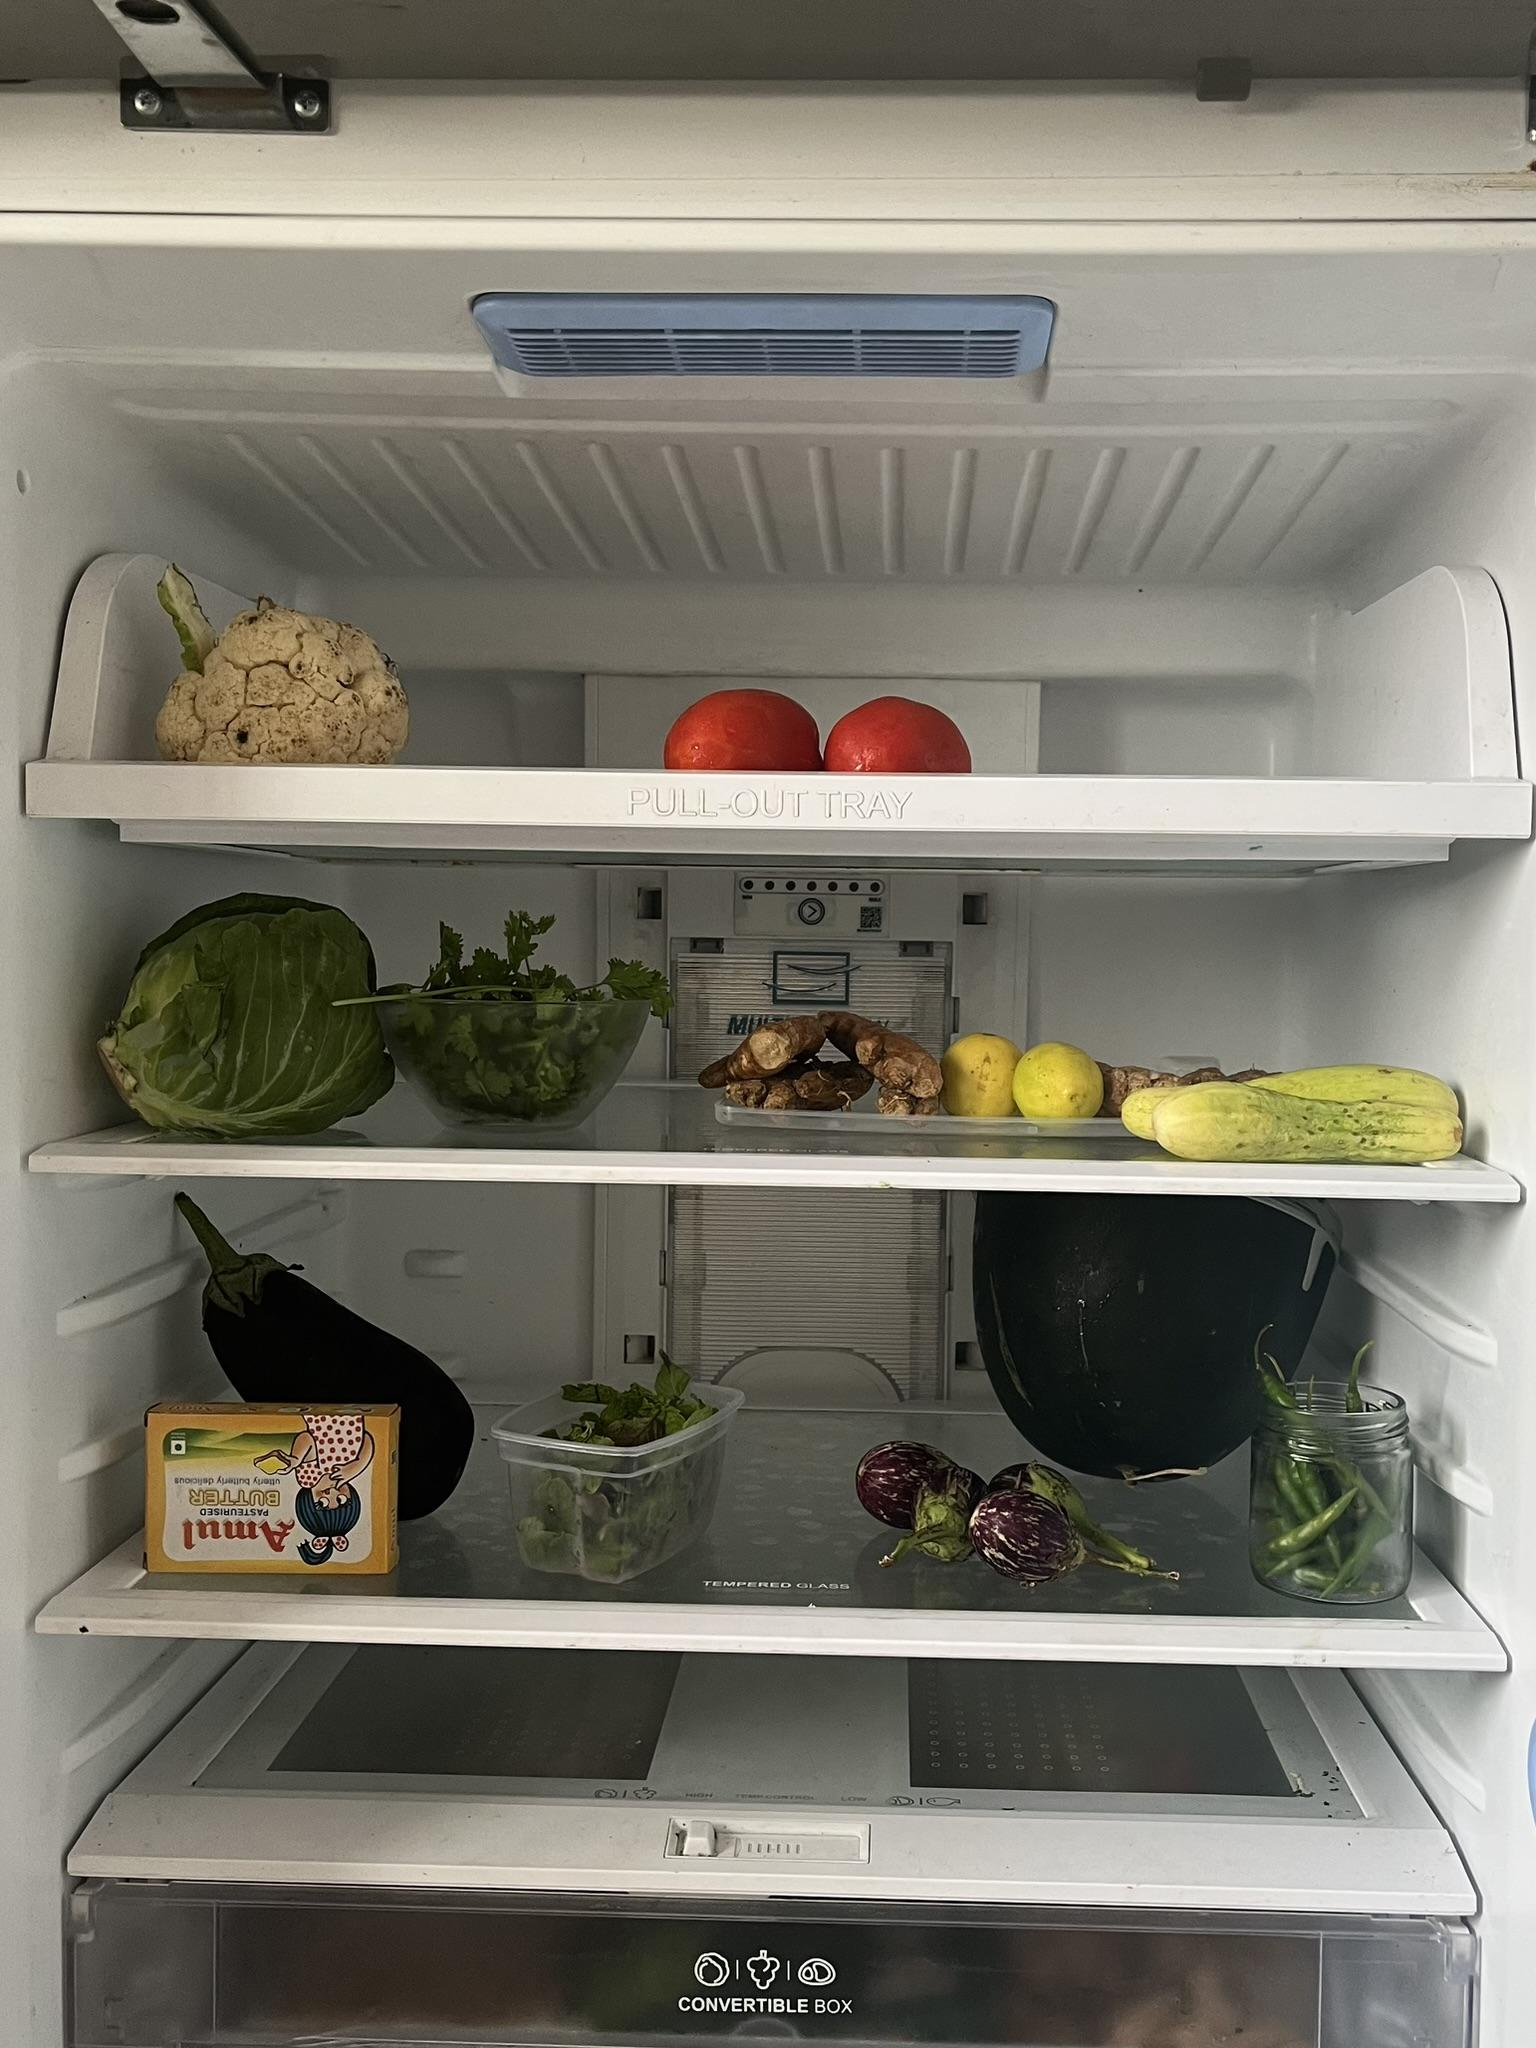basil: (513, 1359, 720, 1571)
bringal: (173, 1187, 473, 1517), (857, 1437, 1120, 1587)
butter: (153, 1403, 407, 1584)
cabbage: (81, 880, 397, 1134)
cauliflower: (153, 606, 410, 763)
chillies: (1260, 1356, 1407, 1596)
coriander: (381, 916, 660, 1124)
cucumber: (1136, 1071, 1473, 1163)
ginger: (713, 1003, 941, 1124)
lemon: (954, 1030, 1097, 1121)
tomato: (653, 677, 970, 774)
watermelon: (979, 1197, 1317, 1474)
